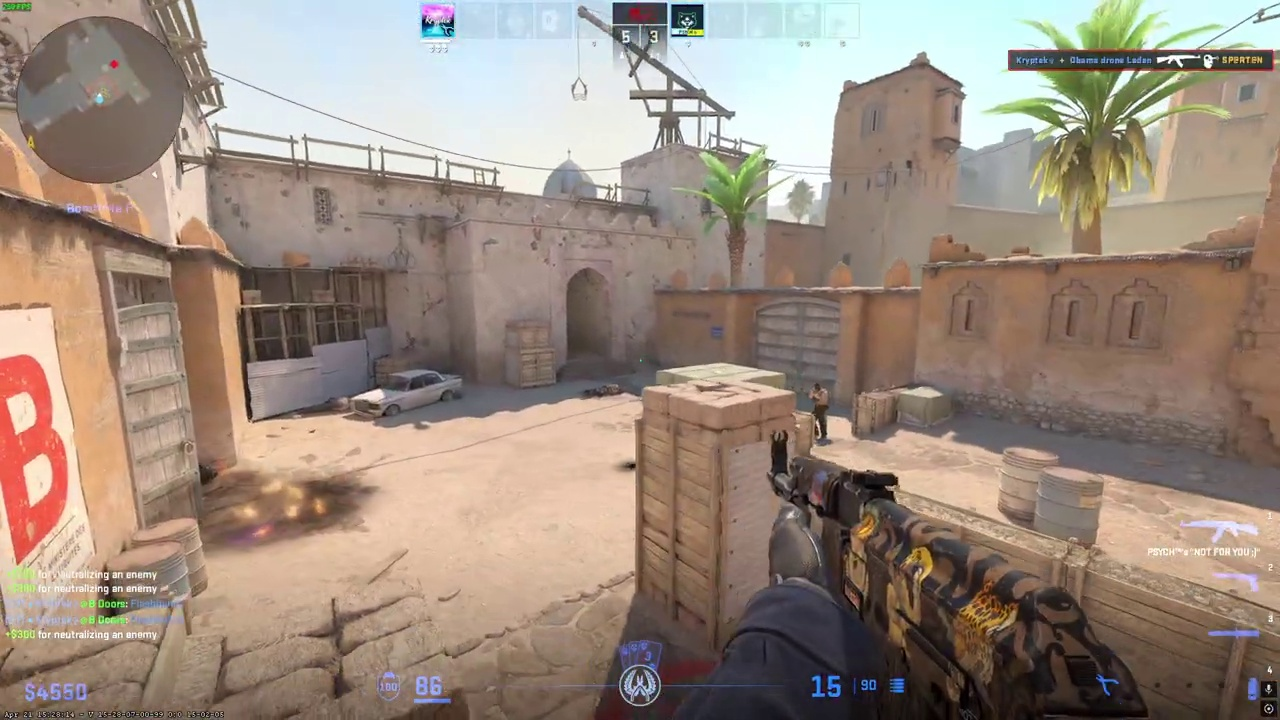Terrorist: (810, 383, 829, 440)
